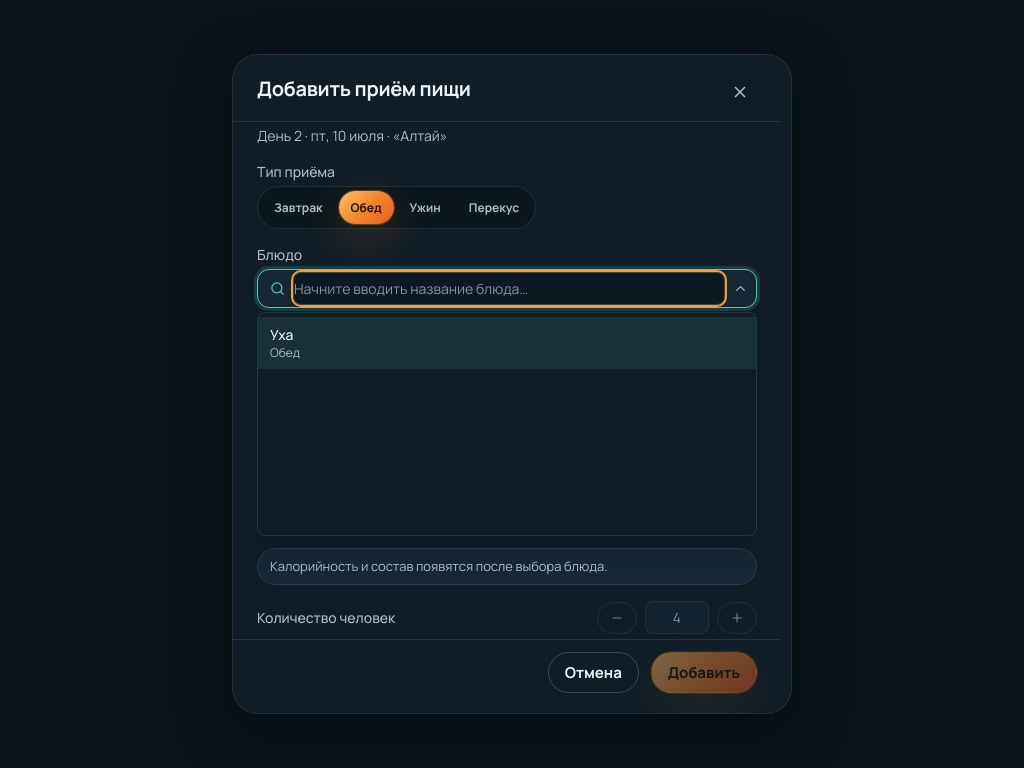
Test case: AddMealModal — постоянный размер формы (Fix-8 п.4) › клик вне поля закрывает список — высота зарезервирована заглушкой (модалка не схлопывается)
«клик вне» компонента поиска (mousedown на оверлее модалки)
Step 1. Press the mouse on the element with class "modal-overlay" → (512, 384), box [0,0,1023,767]
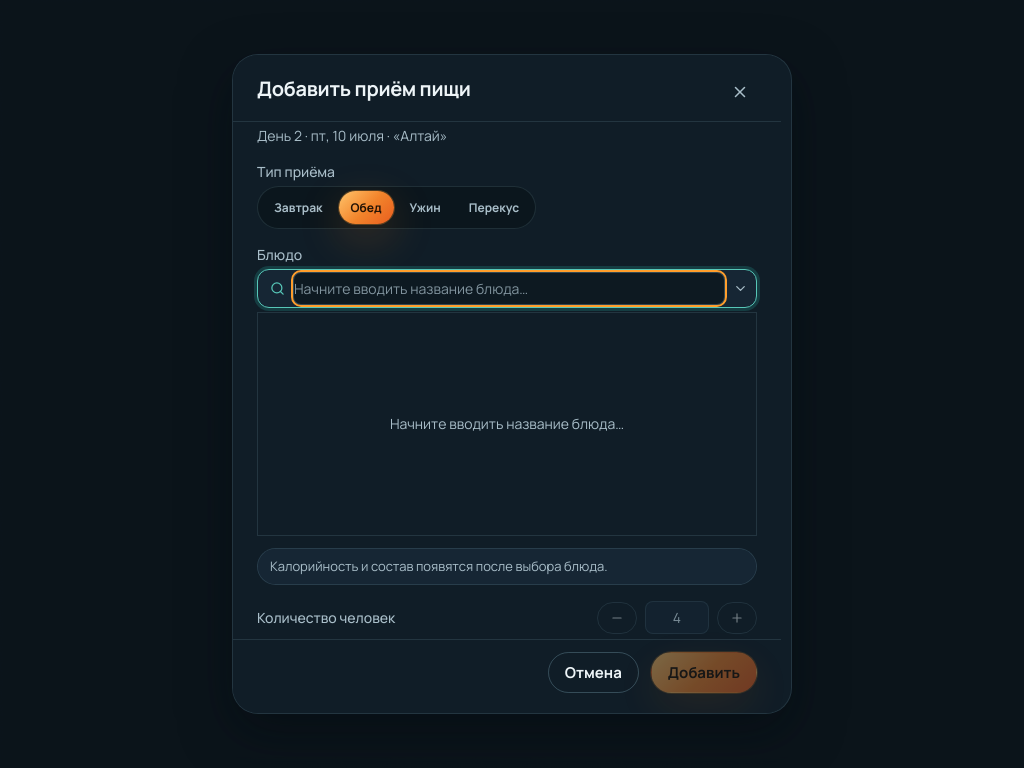
Expected: the text "Начните вводить название блюда…" is shown, [257,312,757,536]
